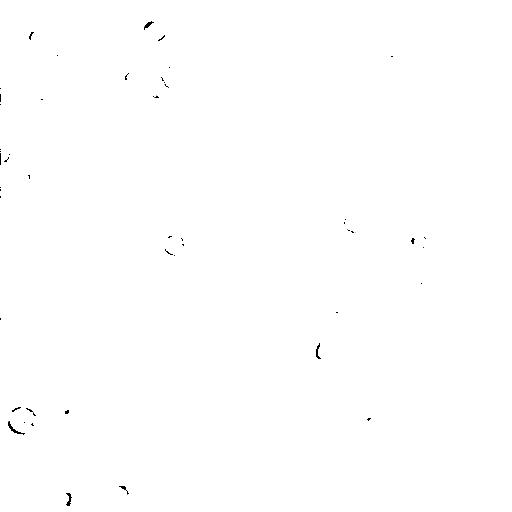micro-algae: (218, 358, 303, 442), (135, 0, 202, 47), (3, 63, 55, 113), (380, 83, 425, 139), (311, 303, 350, 339), (351, 396, 391, 429), (90, 33, 121, 74), (401, 223, 435, 256), (6, 403, 40, 435), (51, 396, 83, 428), (196, 334, 229, 365), (374, 41, 407, 71), (144, 477, 173, 511), (397, 335, 427, 367), (311, 63, 347, 88), (414, 261, 447, 287), (190, 161, 215, 195), (399, 393, 428, 422), (222, 138, 253, 163), (140, 17, 169, 43), (161, 64, 187, 90), (272, 440, 295, 469), (424, 0, 459, 18), (267, 84, 287, 115), (79, 489, 107, 511), (161, 233, 185, 258), (109, 425, 133, 450), (163, 475, 185, 502), (385, 280, 410, 302), (88, 434, 109, 459), (1, 181, 20, 208), (125, 65, 144, 92), (313, 338, 335, 361), (27, 26, 46, 50), (109, 483, 131, 503), (343, 212, 362, 235), (3, 0, 35, 13), (27, 96, 48, 115), (52, 491, 73, 510), (134, 298, 153, 318), (290, 347, 312, 363), (1, 143, 13, 168), (19, 166, 32, 188), (177, 504, 203, 511)
